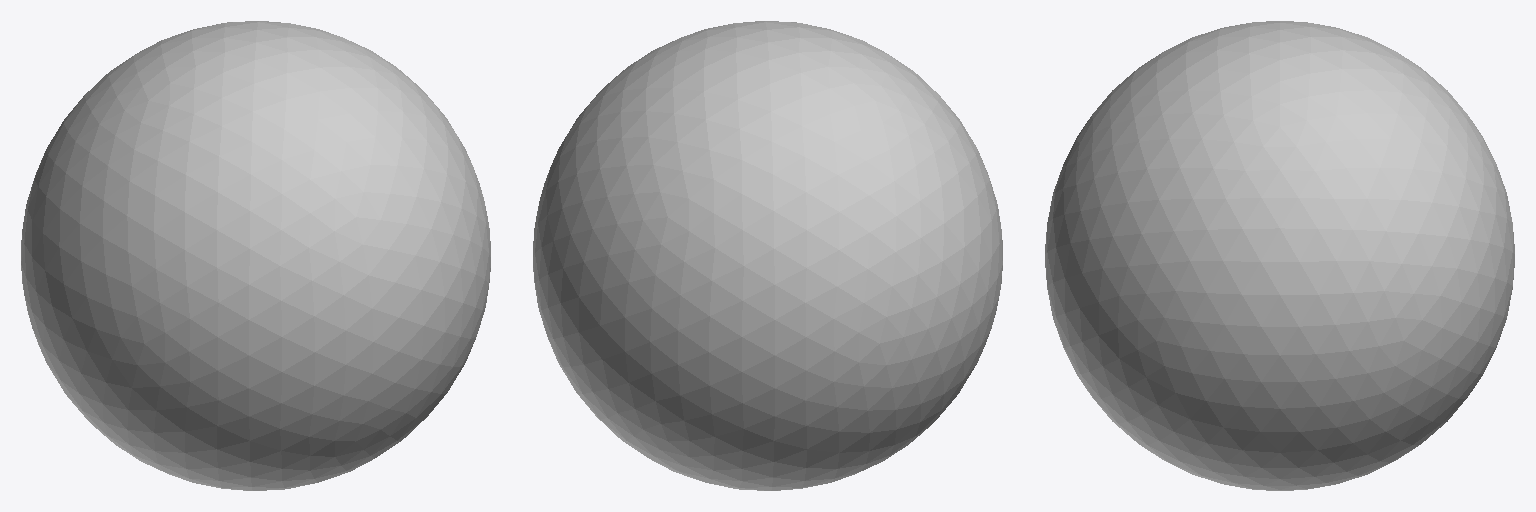
Rendered from v4-icosahedron-simplest.obj.
3 views of the same model, side by side, from view 1: azimuth 30°, elevation 25°; view 2: azimuth 150°, elevation 25°; view 3: azimuth 270°, elevation 25° (orthographic).
Visible parts, largest first — view 1: object 1; view 2: object 1; view 3: object 1.
Boxes of the visible parts, box(x1,y1,x2,y2) form: object 1: box(21, 21, 490, 490); object 1: box(533, 21, 1002, 490); object 1: box(1045, 21, 1514, 490).
Bounding box in the file's own units: 2 × 2 × 2.